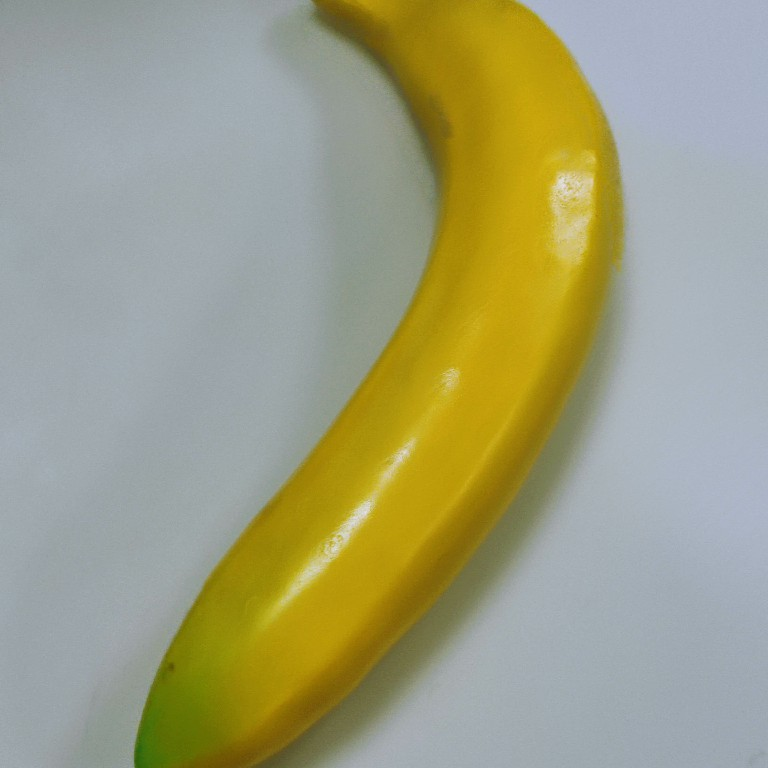fruit_banana: (128, 1, 633, 768)
